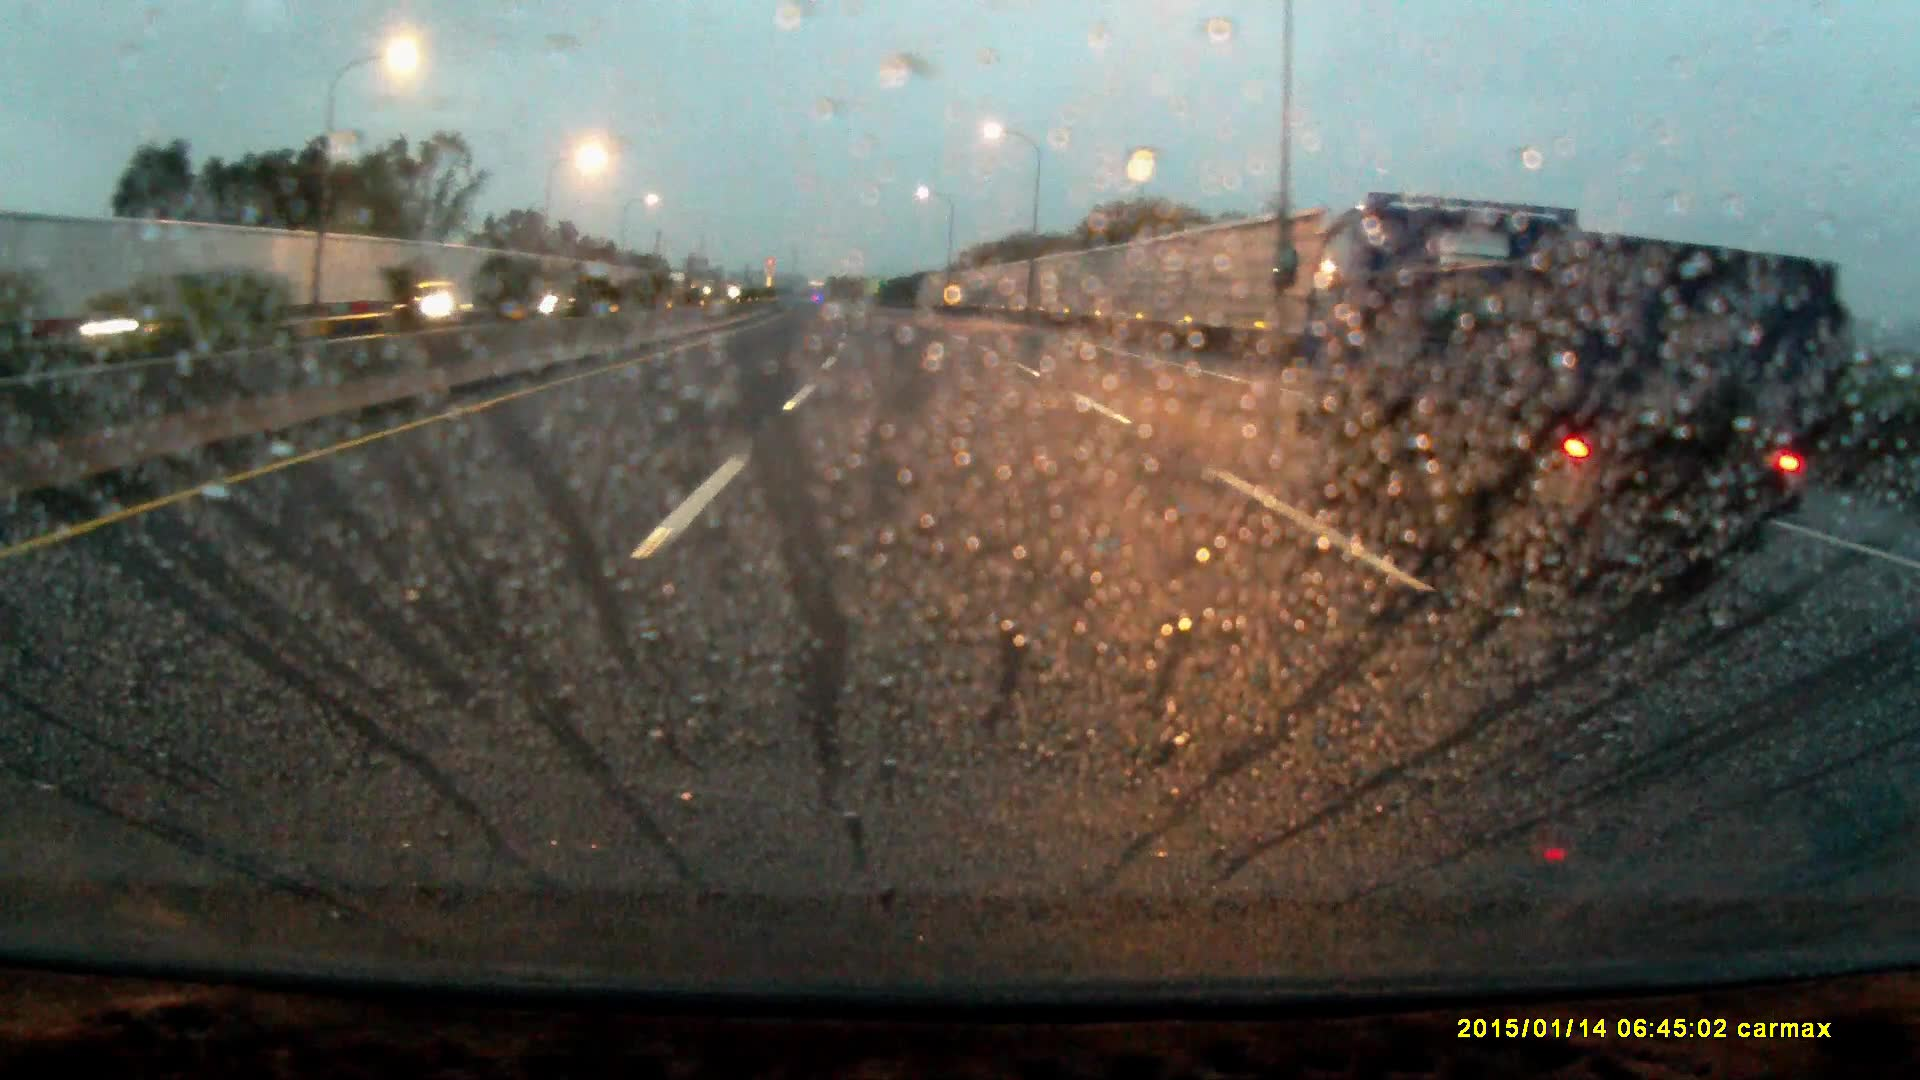vehicle: (1265, 196, 1822, 578), (99, 272, 291, 340), (506, 272, 578, 316), (402, 280, 467, 318)
